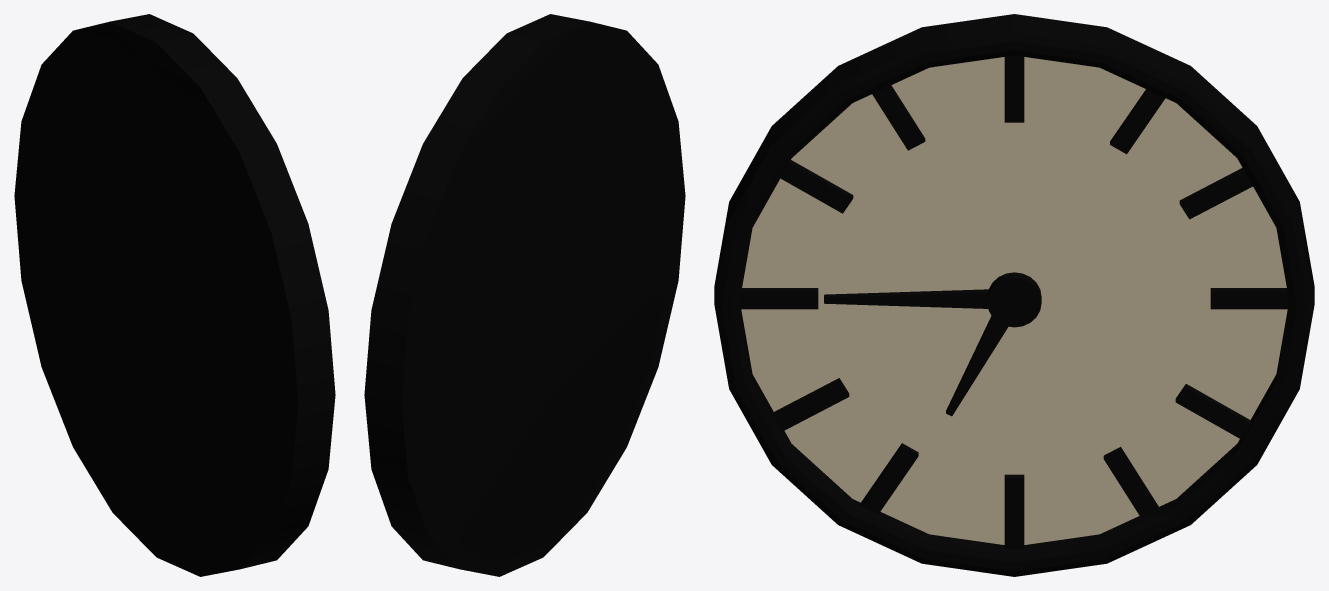
The model's file is clock.fbx.
The picture shows the model from 3 angles, left to right: view 1: azimuth 30°, elevation 25°; view 2: azimuth 150°, elevation 25°; view 3: azimuth 270°, elevation 25°; orthographic projection. The views are drawn at different scales.
Parts seen in each view (by area): view 1: clock; view 2: clock; view 3: clock, pCube101, pCylinder20, pCube85, pCube87, pCube92, pCube98, pCube89, pCube90, pCube97, pCube96, pCube84 (+4 smaller).
Part boxes in pixels (bbox=[...]): clock: bbox=[14, 14, 335, 576]; clock: bbox=[364, 14, 685, 576]; clock: bbox=[714, 14, 1314, 576]; pCube101: bbox=[824, 289, 988, 308]; pCylinder20: bbox=[987, 272, 1041, 327]; pCube85: bbox=[739, 288, 818, 309]; pCube87: bbox=[1210, 288, 1289, 309]; pCube92: bbox=[1175, 384, 1250, 439]; pCube98: bbox=[774, 378, 849, 431]; pCube89: bbox=[861, 443, 918, 514]; pCube90: bbox=[780, 160, 853, 213]; pCube97: bbox=[1103, 447, 1158, 518]; pCube96: bbox=[1179, 168, 1252, 219]; pCube84: bbox=[1004, 474, 1024, 549].
Bounding box in the file's own units: 0.0916 × 0.9511 × 0.9511.
